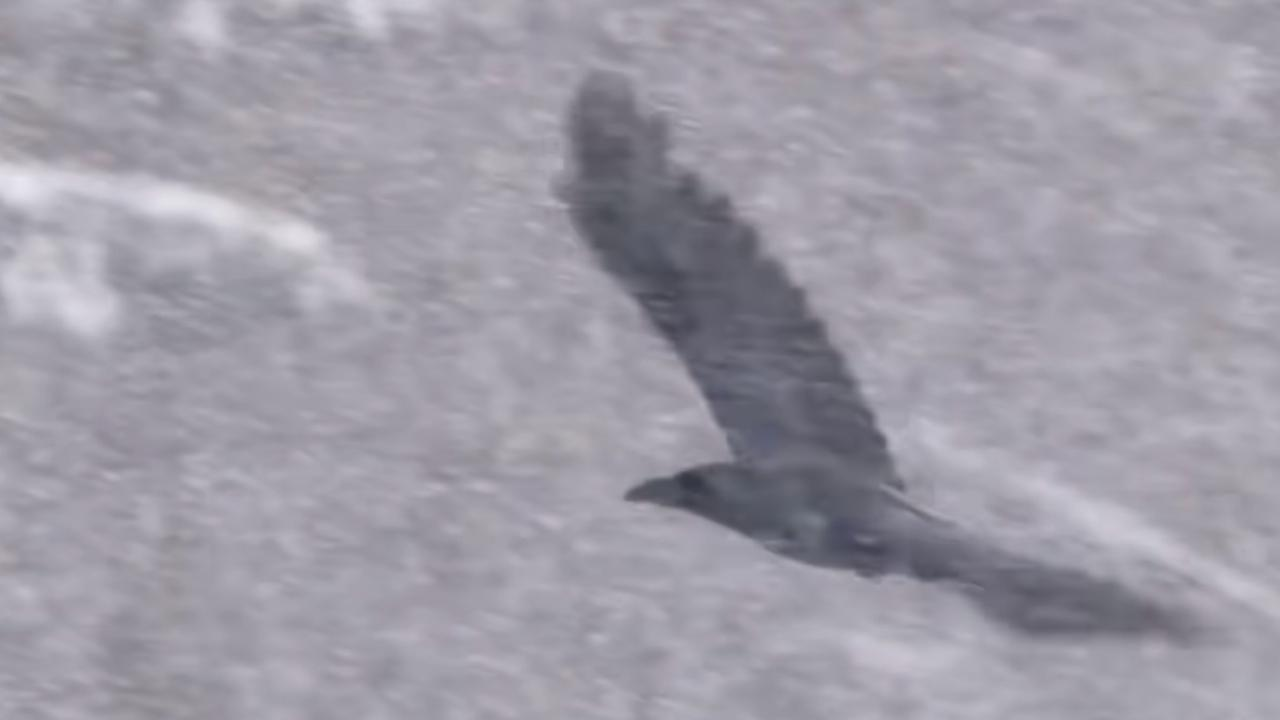Bird: (540, 57, 1210, 658)
